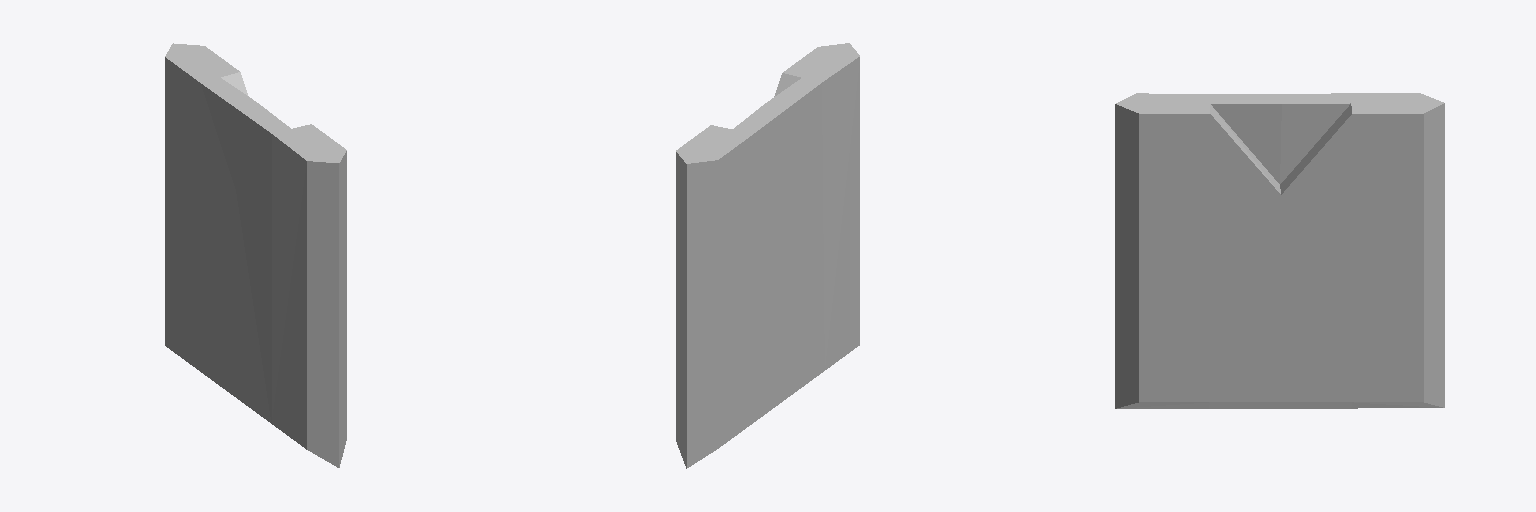
File: clothFolded.obj
3 views of the same model, side by side, from view 1: azimuth 30°, elevation 25°; view 2: azimuth 150°, elevation 25°; view 3: azimuth 270°, elevation 25° (orthographic).
Visible parts, largest first — view 1: pCube39; view 2: pCube39; view 3: pCube39.
Part boxes in pixels (left/top/right/bottom): pCube39: left=165, top=43, right=346, bottom=467; pCube39: left=676, top=43, right=859, bottom=468; pCube39: left=1115, top=93, right=1444, bottom=408.
Size of the model in its own units: 3.11 by 21.89 by 21.43.